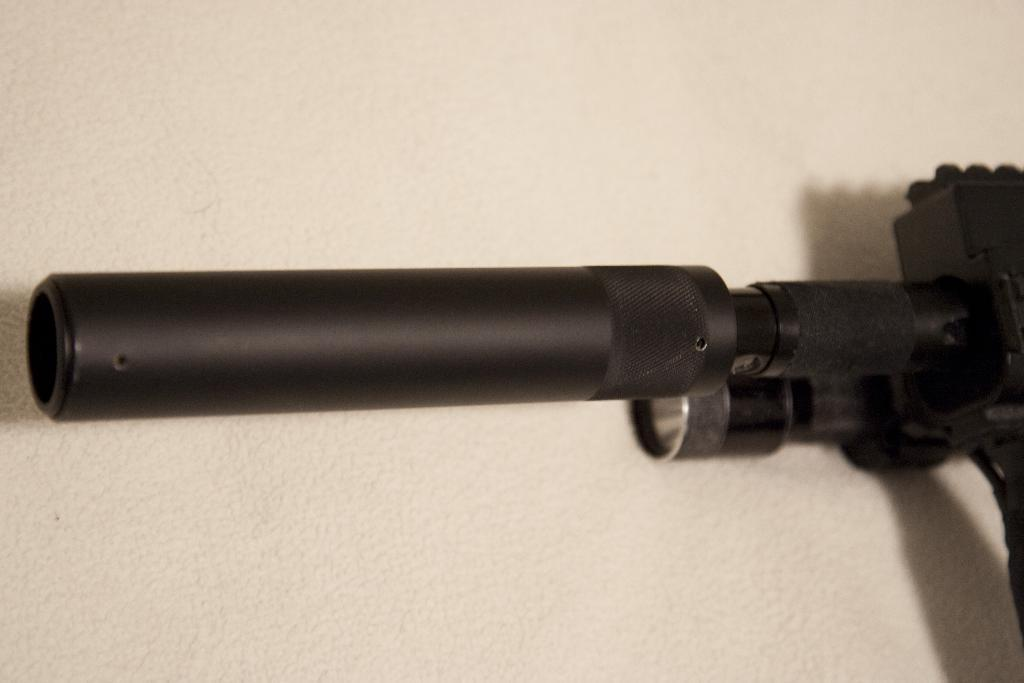Shotgun: (25, 162, 1024, 647)
